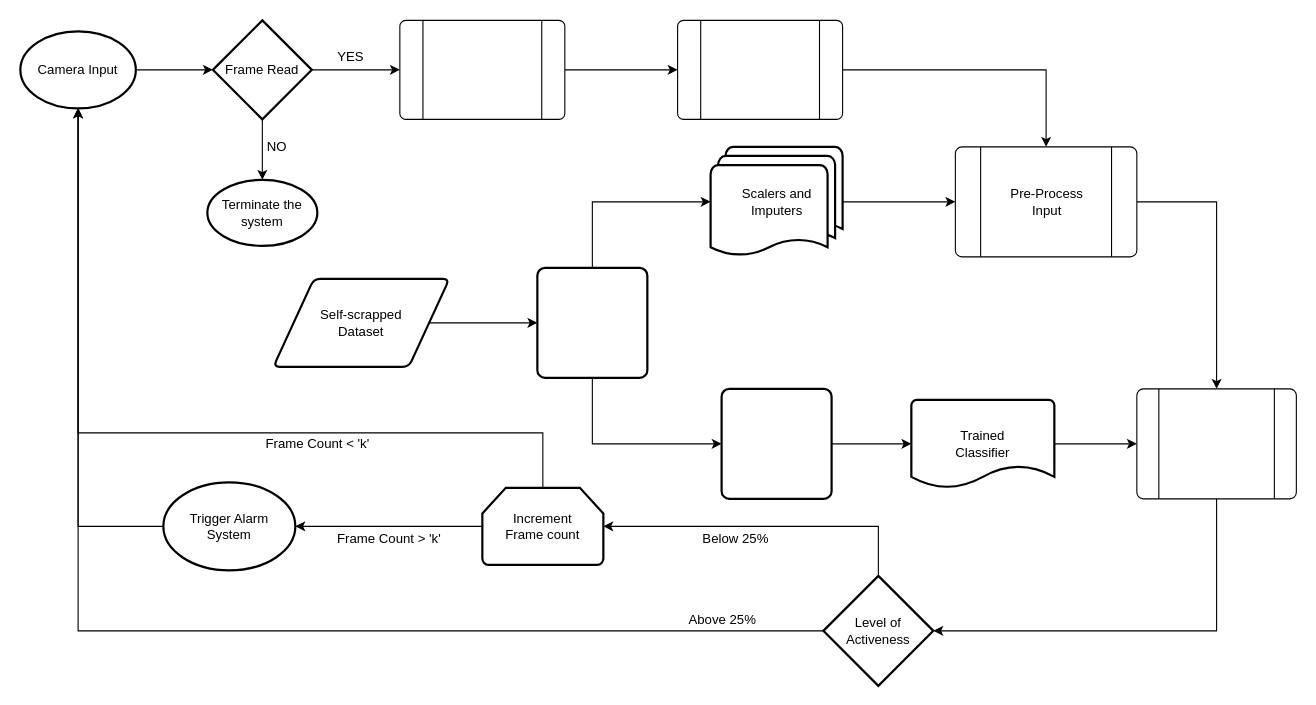
This 1316x705 diagram has some shape labels left out. The box of each missing label's shape, as (x1, y1, x2, y2) in pixels:
Extract 2-dimensional key-points using HPE Algorithm: (399, 19, 565, 119)
Extract angles using Pose Encoding: (676, 19, 843, 119)
Pre-process angles' data: (536, 266, 648, 378)
Predicting Activeness level: (1136, 388, 1296, 499)
Train Model`: (720, 387, 832, 499)
